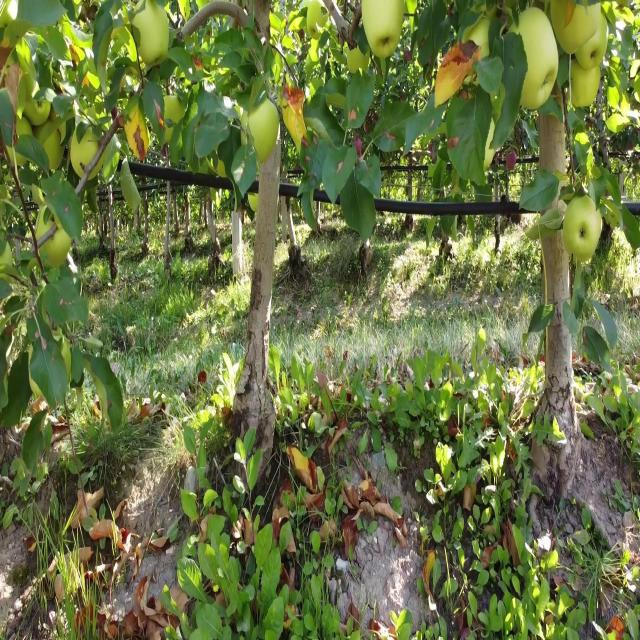apple: (520, 7, 560, 114), (520, 35, 560, 112), (556, 7, 608, 64), (556, 0, 600, 57), (364, 0, 404, 62), (564, 199, 604, 260), (132, 7, 169, 69), (572, 7, 608, 66), (248, 99, 280, 164), (520, 63, 555, 114), (572, 63, 602, 112), (4, 42, 32, 91), (556, 0, 580, 57), (552, 0, 577, 50), (24, 85, 51, 128), (520, 78, 552, 114), (436, 63, 461, 107), (48, 227, 72, 270), (308, 469, 328, 517), (44, 127, 64, 171), (308, 483, 328, 526), (348, 49, 372, 76), (553, 0, 575, 28), (348, 49, 368, 76), (300, 462, 318, 489), (80, 71, 100, 94), (620, 7, 640, 30), (608, 56, 623, 85), (624, 7, 640, 30), (608, 113, 623, 135), (576, 127, 590, 149), (608, 85, 620, 108), (621, 92, 631, 119), (448, 419, 459, 441), (224, 405, 235, 427), (156, 106, 166, 130), (632, 63, 640, 92), (292, 14, 303, 34), (632, 85, 640, 112), (484, 547, 493, 569), (280, 483, 292, 498), (324, 440, 333, 460), (140, 405, 151, 420), (320, 369, 327, 389), (200, 369, 208, 384), (312, 398, 320, 409), (348, 391, 352, 404)
